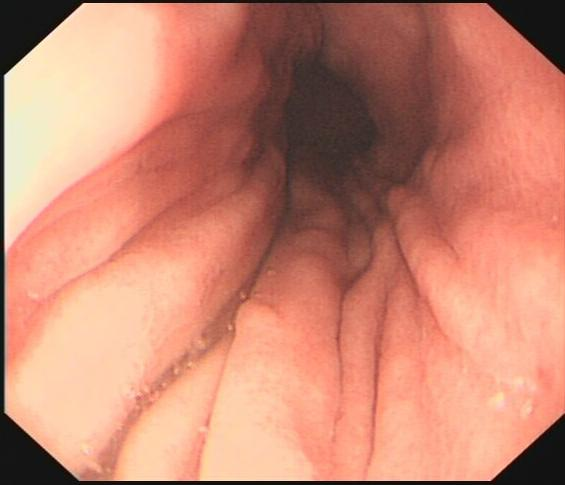Polyp: (233, 295, 286, 348)
